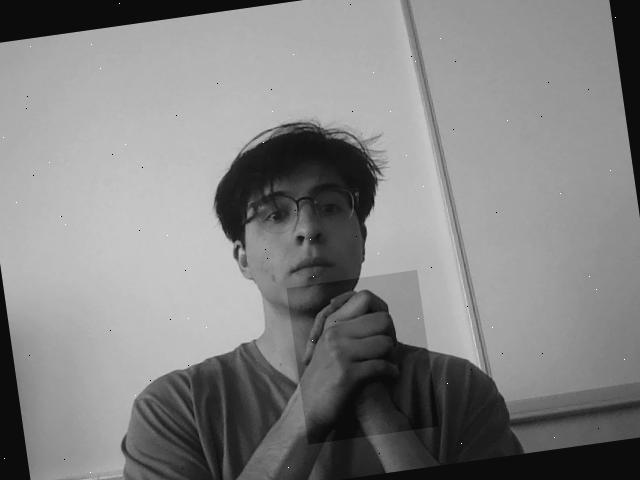friend: (286, 270, 439, 444)
